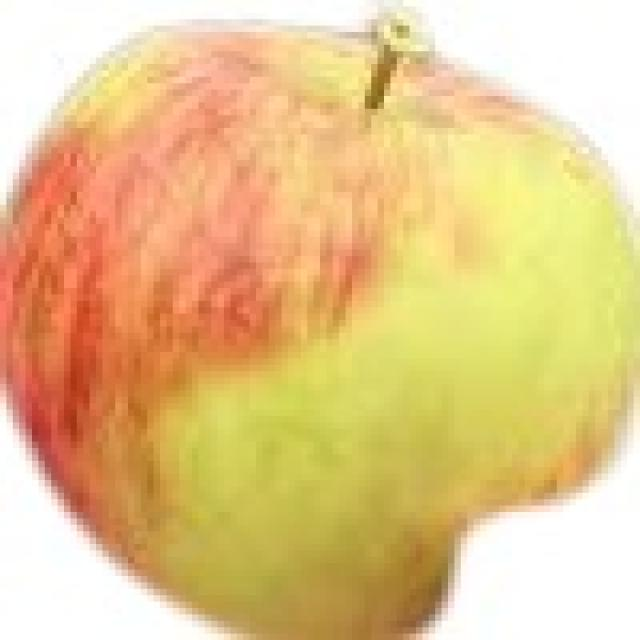75-_ripeness: (0, 22, 638, 636)
